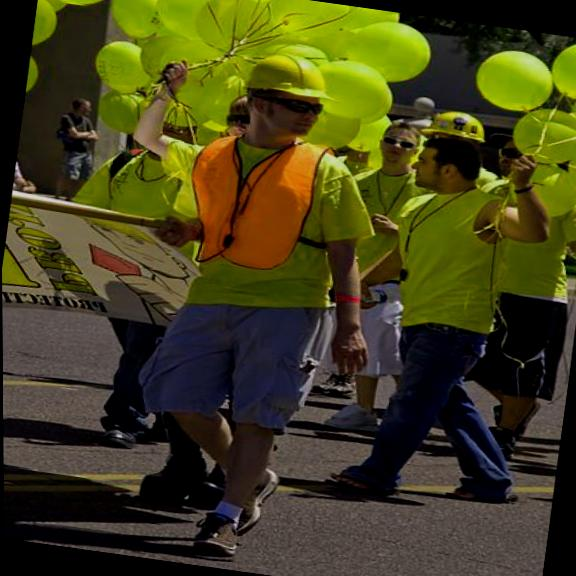safety_vest: (177, 126, 340, 281)
